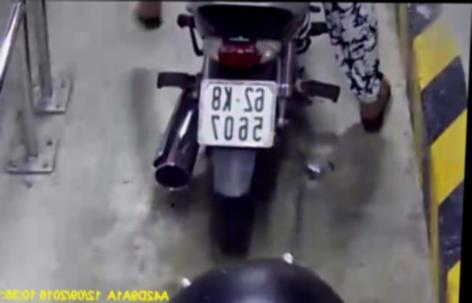License_Plate: (187, 73, 286, 152)
